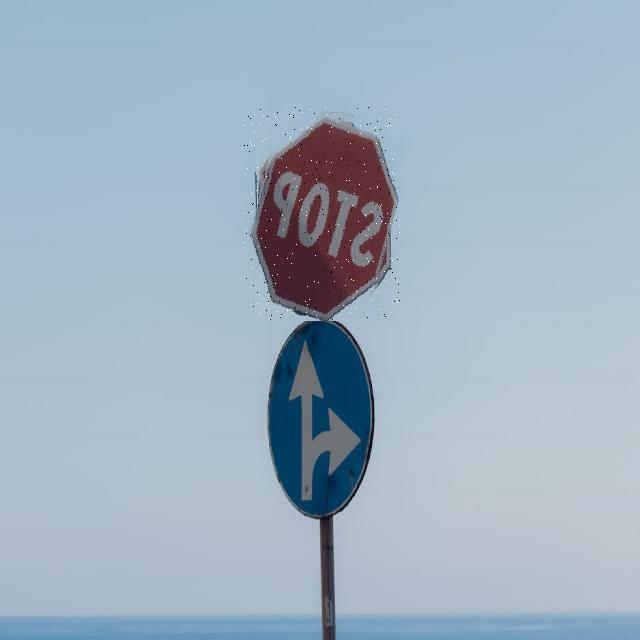stop: (243, 106, 400, 321)
